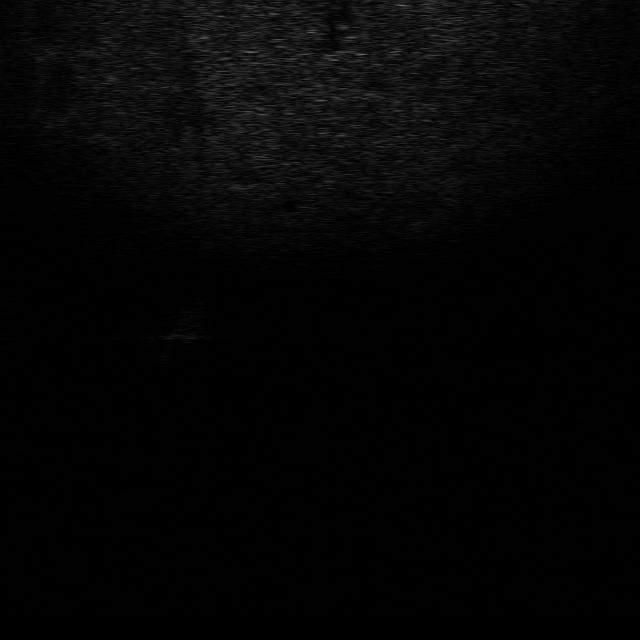human body: (152, 295, 212, 365)
